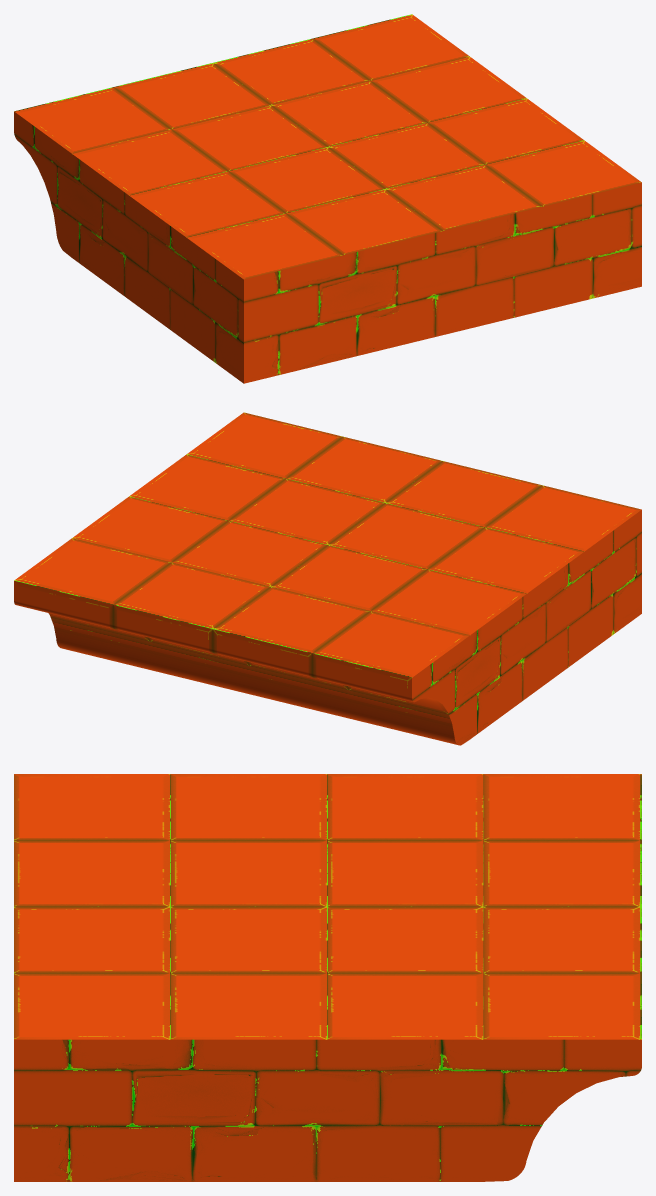
Rendered from Ceiling Block 4.fbx.
3 views of the same model, one above another, from view 1: azimuth 30°, elevation 25°; view 2: azimuth 150°, elevation 25°; view 3: azimuth 270°, elevation 25° (orthographic). The views are drawn at different scales.
Parts seen in each view (by area): view 1: pCube13; view 2: pCube13; view 3: pCube13.
Boxes of the visible parts, x1=… form: pCube13: x1=14, y1=14, x2=641, y2=383; pCube13: x1=14, y1=412, x2=641, y2=745; pCube13: x1=14, y1=774, x2=641, y2=1181.
Size of the model in its own units: 200 by 50 by 200.
